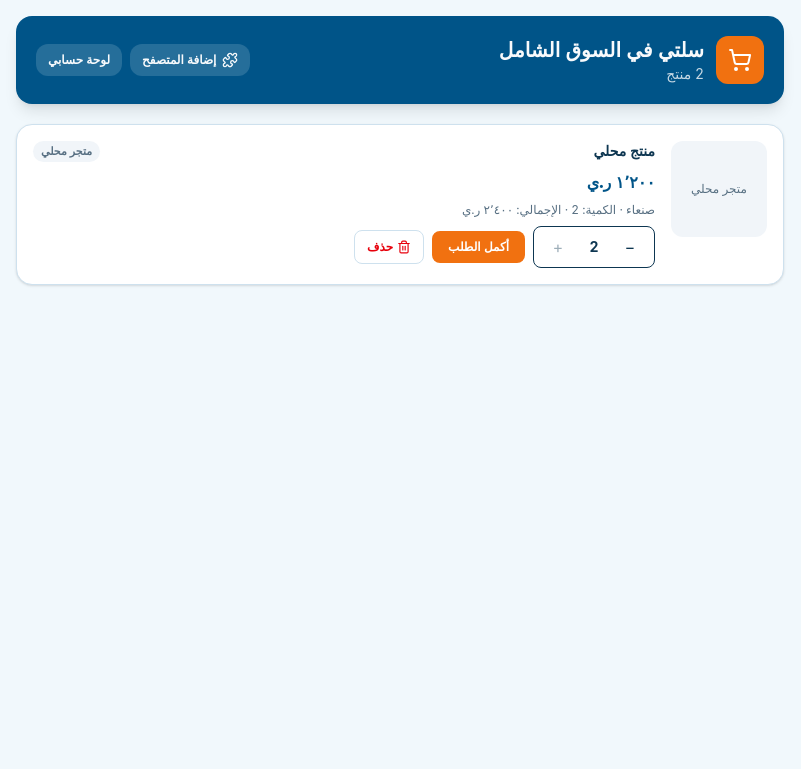
Scenario: customer merchant-cart journey › keeps the product in the cart and shows the server stock error when availability changed
Click the button "أكمل الطلب" at (479, 246), box [432,230,525,262]
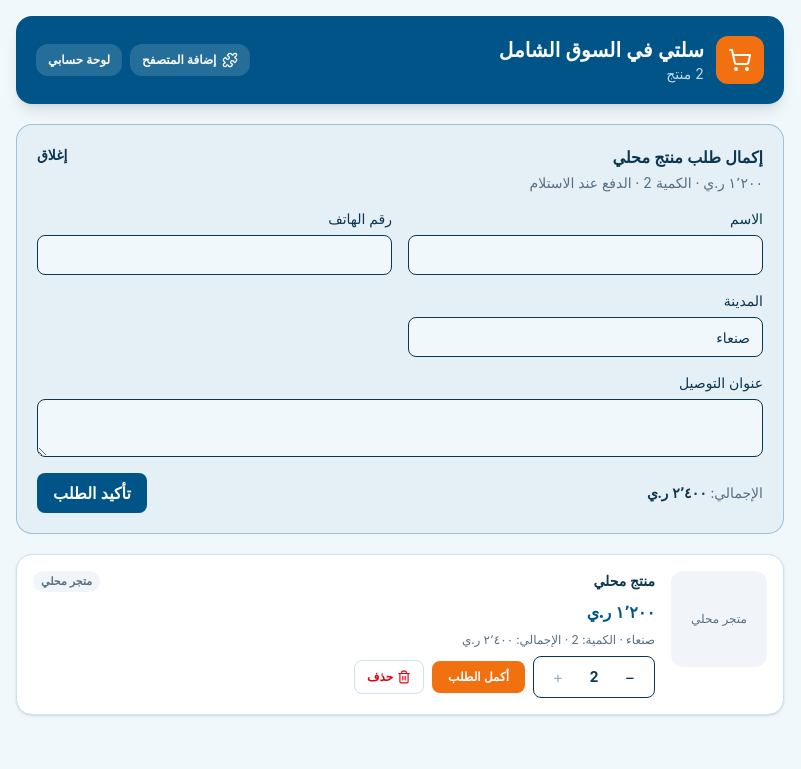
Type "عميل تجريبي" into the field labelled "الاسم" at (586, 255), box [408,235,763,275]
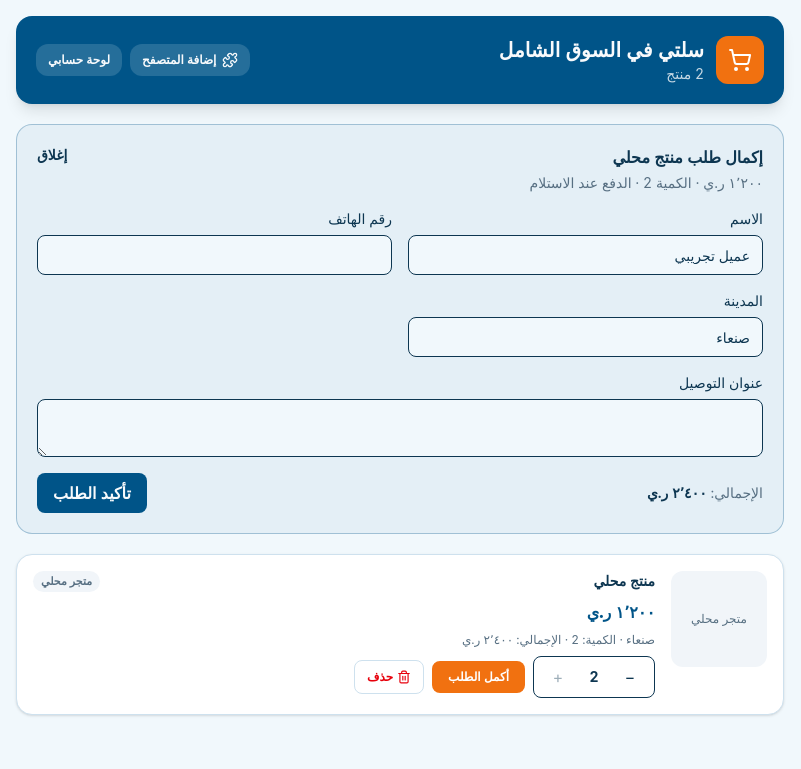
Type "777123456" into the field labelled "رقم الهاتف" at (214, 255), box [37,235,392,275]
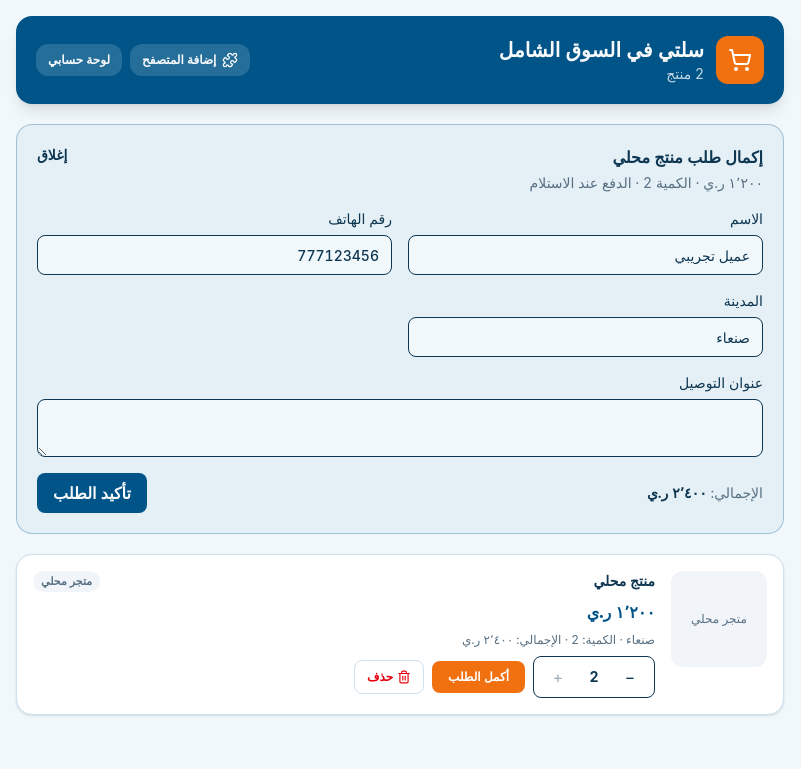
Type "شارع التحرير، صنعاء" into the text box labelled "عنوان التوصيل" at (400, 428), box [37,399,763,457]
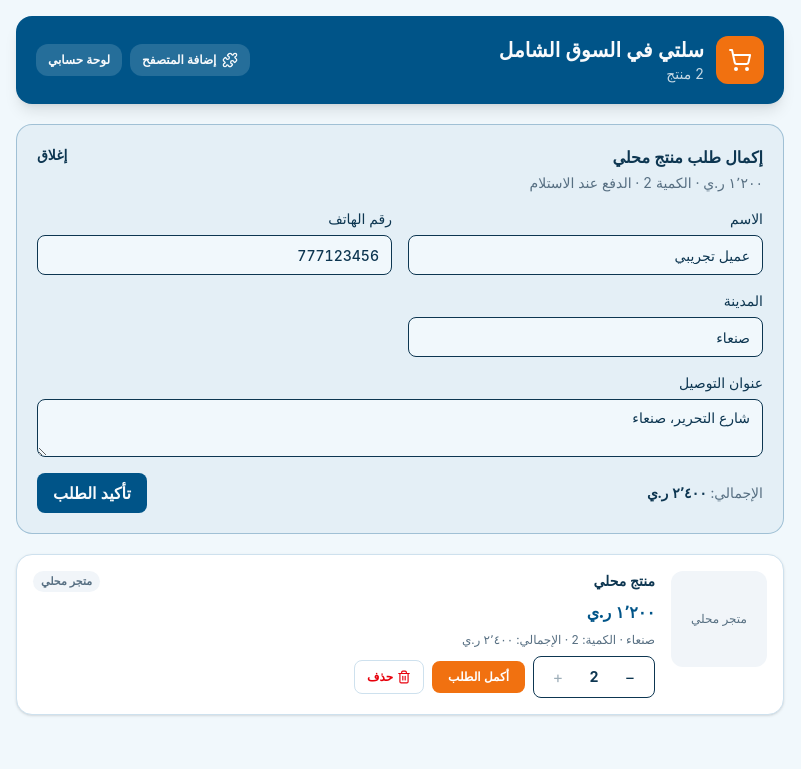
Click the button "تأكيد الطلب" at (92, 493), box [37,473,147,513]
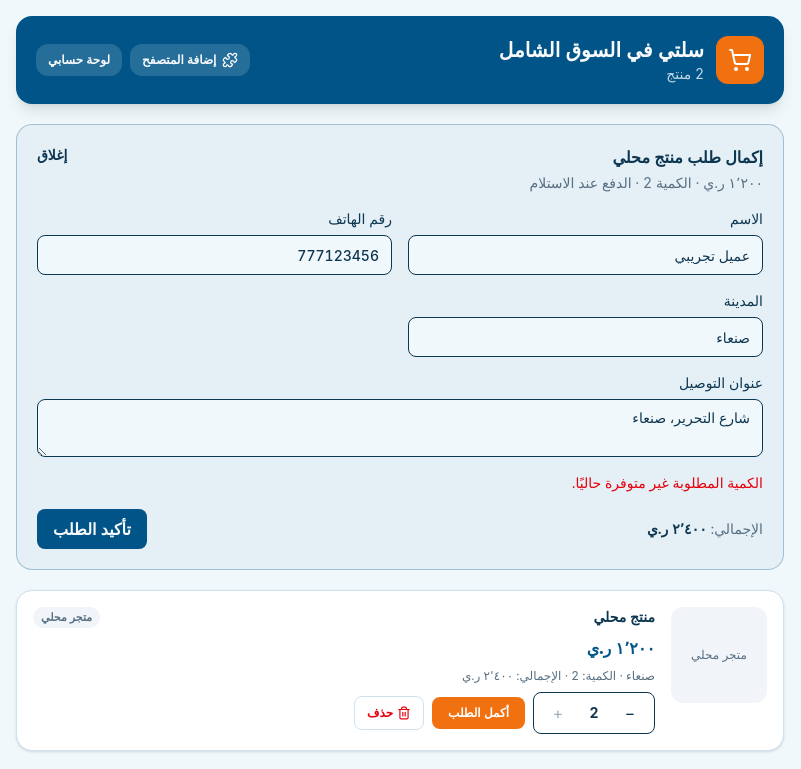
Now the message reads "الكمية المطلوبة غير متوفرة حاليًا.", box [572,474,763,491]
